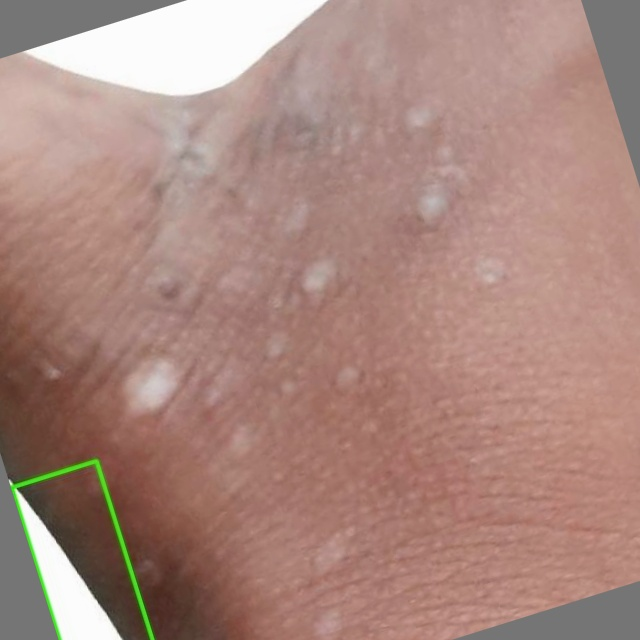Scabies: (11, 460, 152, 639)
